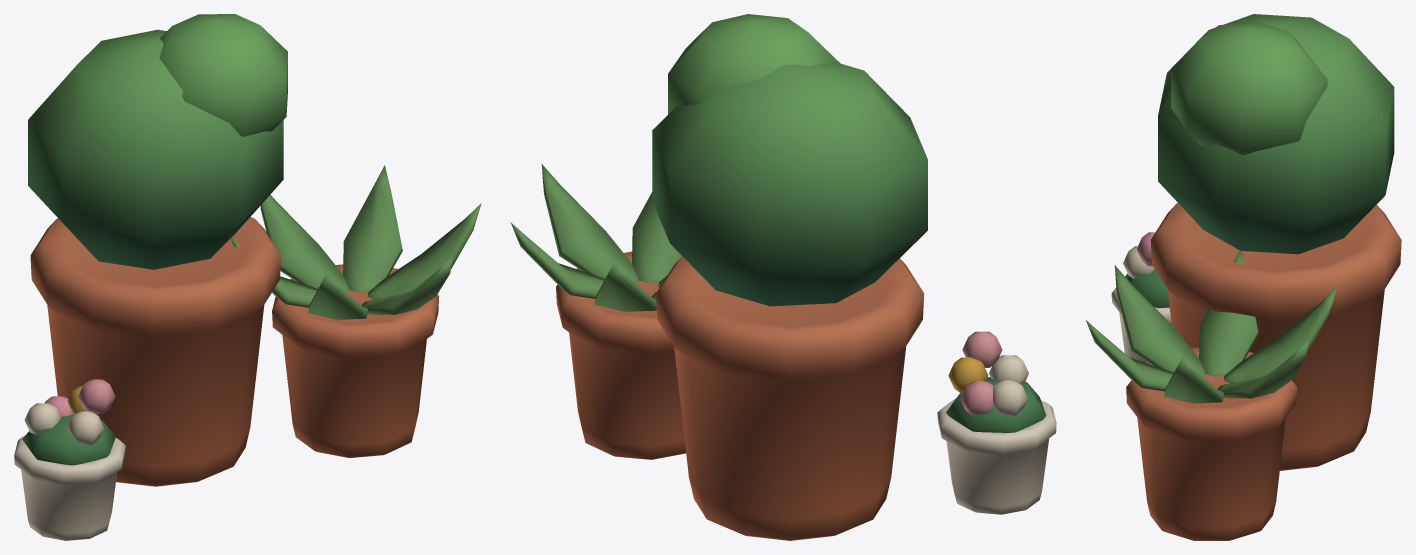
The model's file is pot_cluster.glb.
The picture shows the model from 3 angles, left to right: view 1: azimuth 30°, elevation 25°; view 2: azimuth 150°, elevation 25°; view 3: azimuth 270°, elevation 25°; orthographic projection. The views are drawn at different scales.
Visible parts, largest first — view 1: pot_cluster; view 2: pot_cluster; view 3: pot_cluster.
Boxes of the visible parts, x1,y1,x2,y2 form: pot_cluster: (14, 14, 481, 540); pot_cluster: (510, 14, 1056, 540); pot_cluster: (1085, 14, 1401, 540).
Bounding box in the file's own units: 1 × 0.88 × 0.588.
